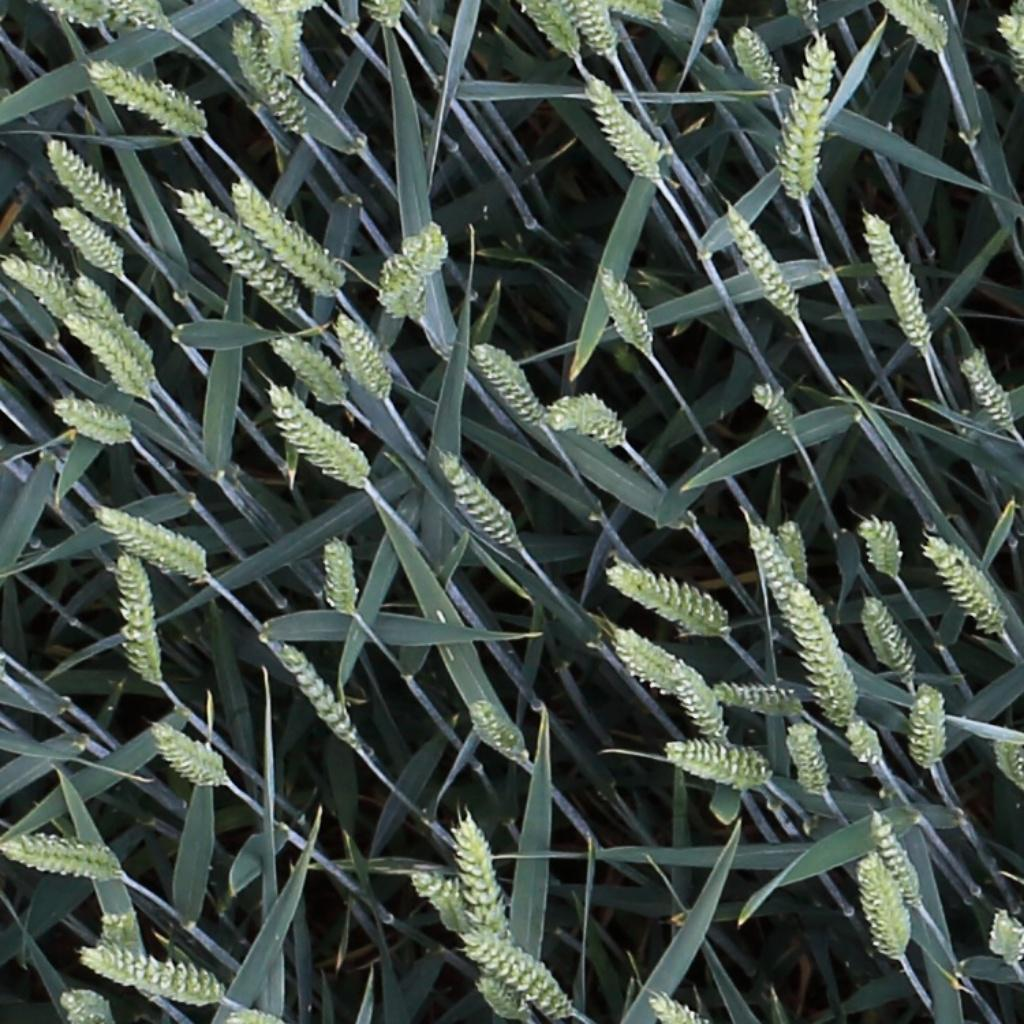0-0: (746, 517, 862, 724), (228, 173, 349, 300), (181, 191, 300, 311), (226, 17, 320, 142), (585, 72, 681, 192), (73, 939, 232, 1009), (864, 206, 936, 350), (277, 638, 364, 756), (270, 385, 370, 486), (722, 200, 804, 320), (70, 270, 159, 380), (463, 933, 574, 1019), (607, 552, 729, 630), (369, 217, 453, 323), (98, 509, 215, 583), (438, 451, 524, 551), (924, 533, 1006, 637), (43, 133, 129, 228), (785, 39, 835, 202), (90, 60, 204, 131), (64, 308, 150, 402), (2, 814, 123, 877), (473, 339, 550, 431), (865, 806, 929, 914), (852, 847, 912, 961), (457, 815, 510, 944), (664, 738, 775, 799), (117, 551, 161, 689), (333, 308, 395, 404), (596, 262, 658, 354), (664, 656, 736, 735), (154, 721, 231, 793), (271, 334, 348, 404), (862, 593, 921, 684), (961, 344, 1018, 438), (310, 527, 364, 626), (601, 624, 674, 697), (54, 202, 126, 275), (714, 668, 807, 720), (466, 696, 531, 770), (53, 398, 143, 449), (908, 676, 951, 782), (2, 256, 73, 319), (778, 719, 831, 802), (6, 218, 70, 285), (548, 391, 630, 442), (733, 20, 785, 96), (524, 0, 584, 62), (881, 0, 950, 53), (412, 869, 472, 929), (857, 506, 902, 584), (753, 378, 804, 442), (572, 0, 621, 61), (263, 12, 303, 82), (779, 514, 815, 588), (845, 714, 888, 774), (982, 908, 1024, 969), (59, 986, 122, 1024), (476, 983, 532, 1022), (649, 993, 715, 1024), (995, 733, 1024, 803), (606, 0, 679, 27), (99, 908, 145, 946)
